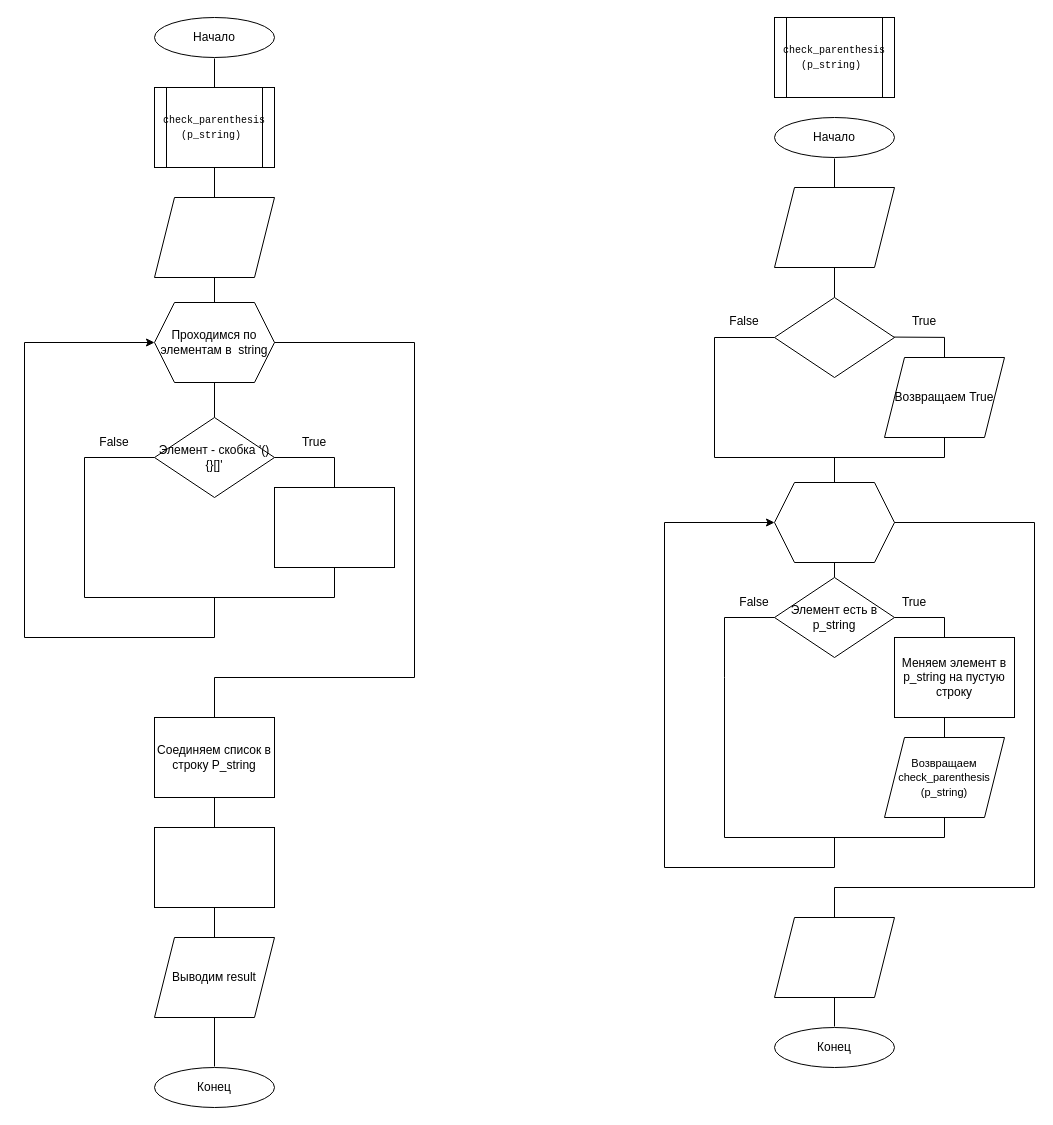
This 1053x1125 diagram has some shape labels left out. Each missing label, with the centre of its shape:
"p_string - пустая" belongs at point (834, 337).
"result = check_parenthesis (P_string)" belongs at point (214, 867).
"Вводим строку string" belongs at point (214, 237).
"Возвращаем False" belongs at point (834, 957).
"Добавляем элемент в список" belongs at point (334, 527).
"Получаем строку p_string" belongs at point (834, 227).
"Проходимся по элементам в ('()', '[]', '{}')" belongs at point (834, 522).
